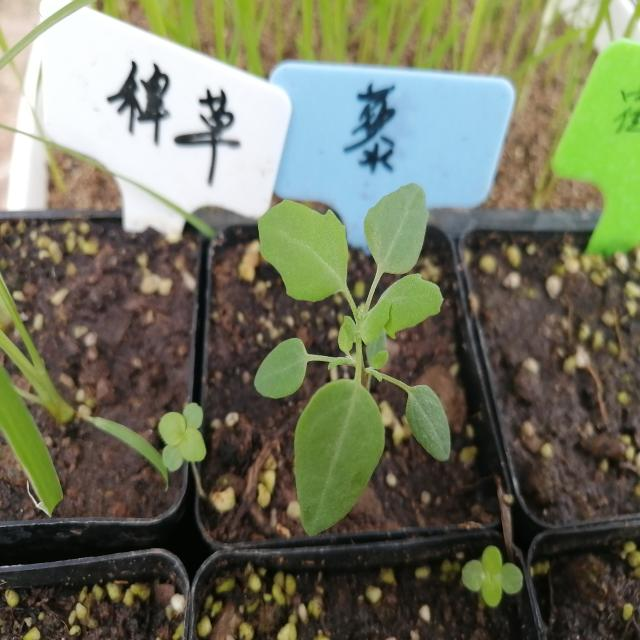goosefoots: (252, 180, 476, 510)
